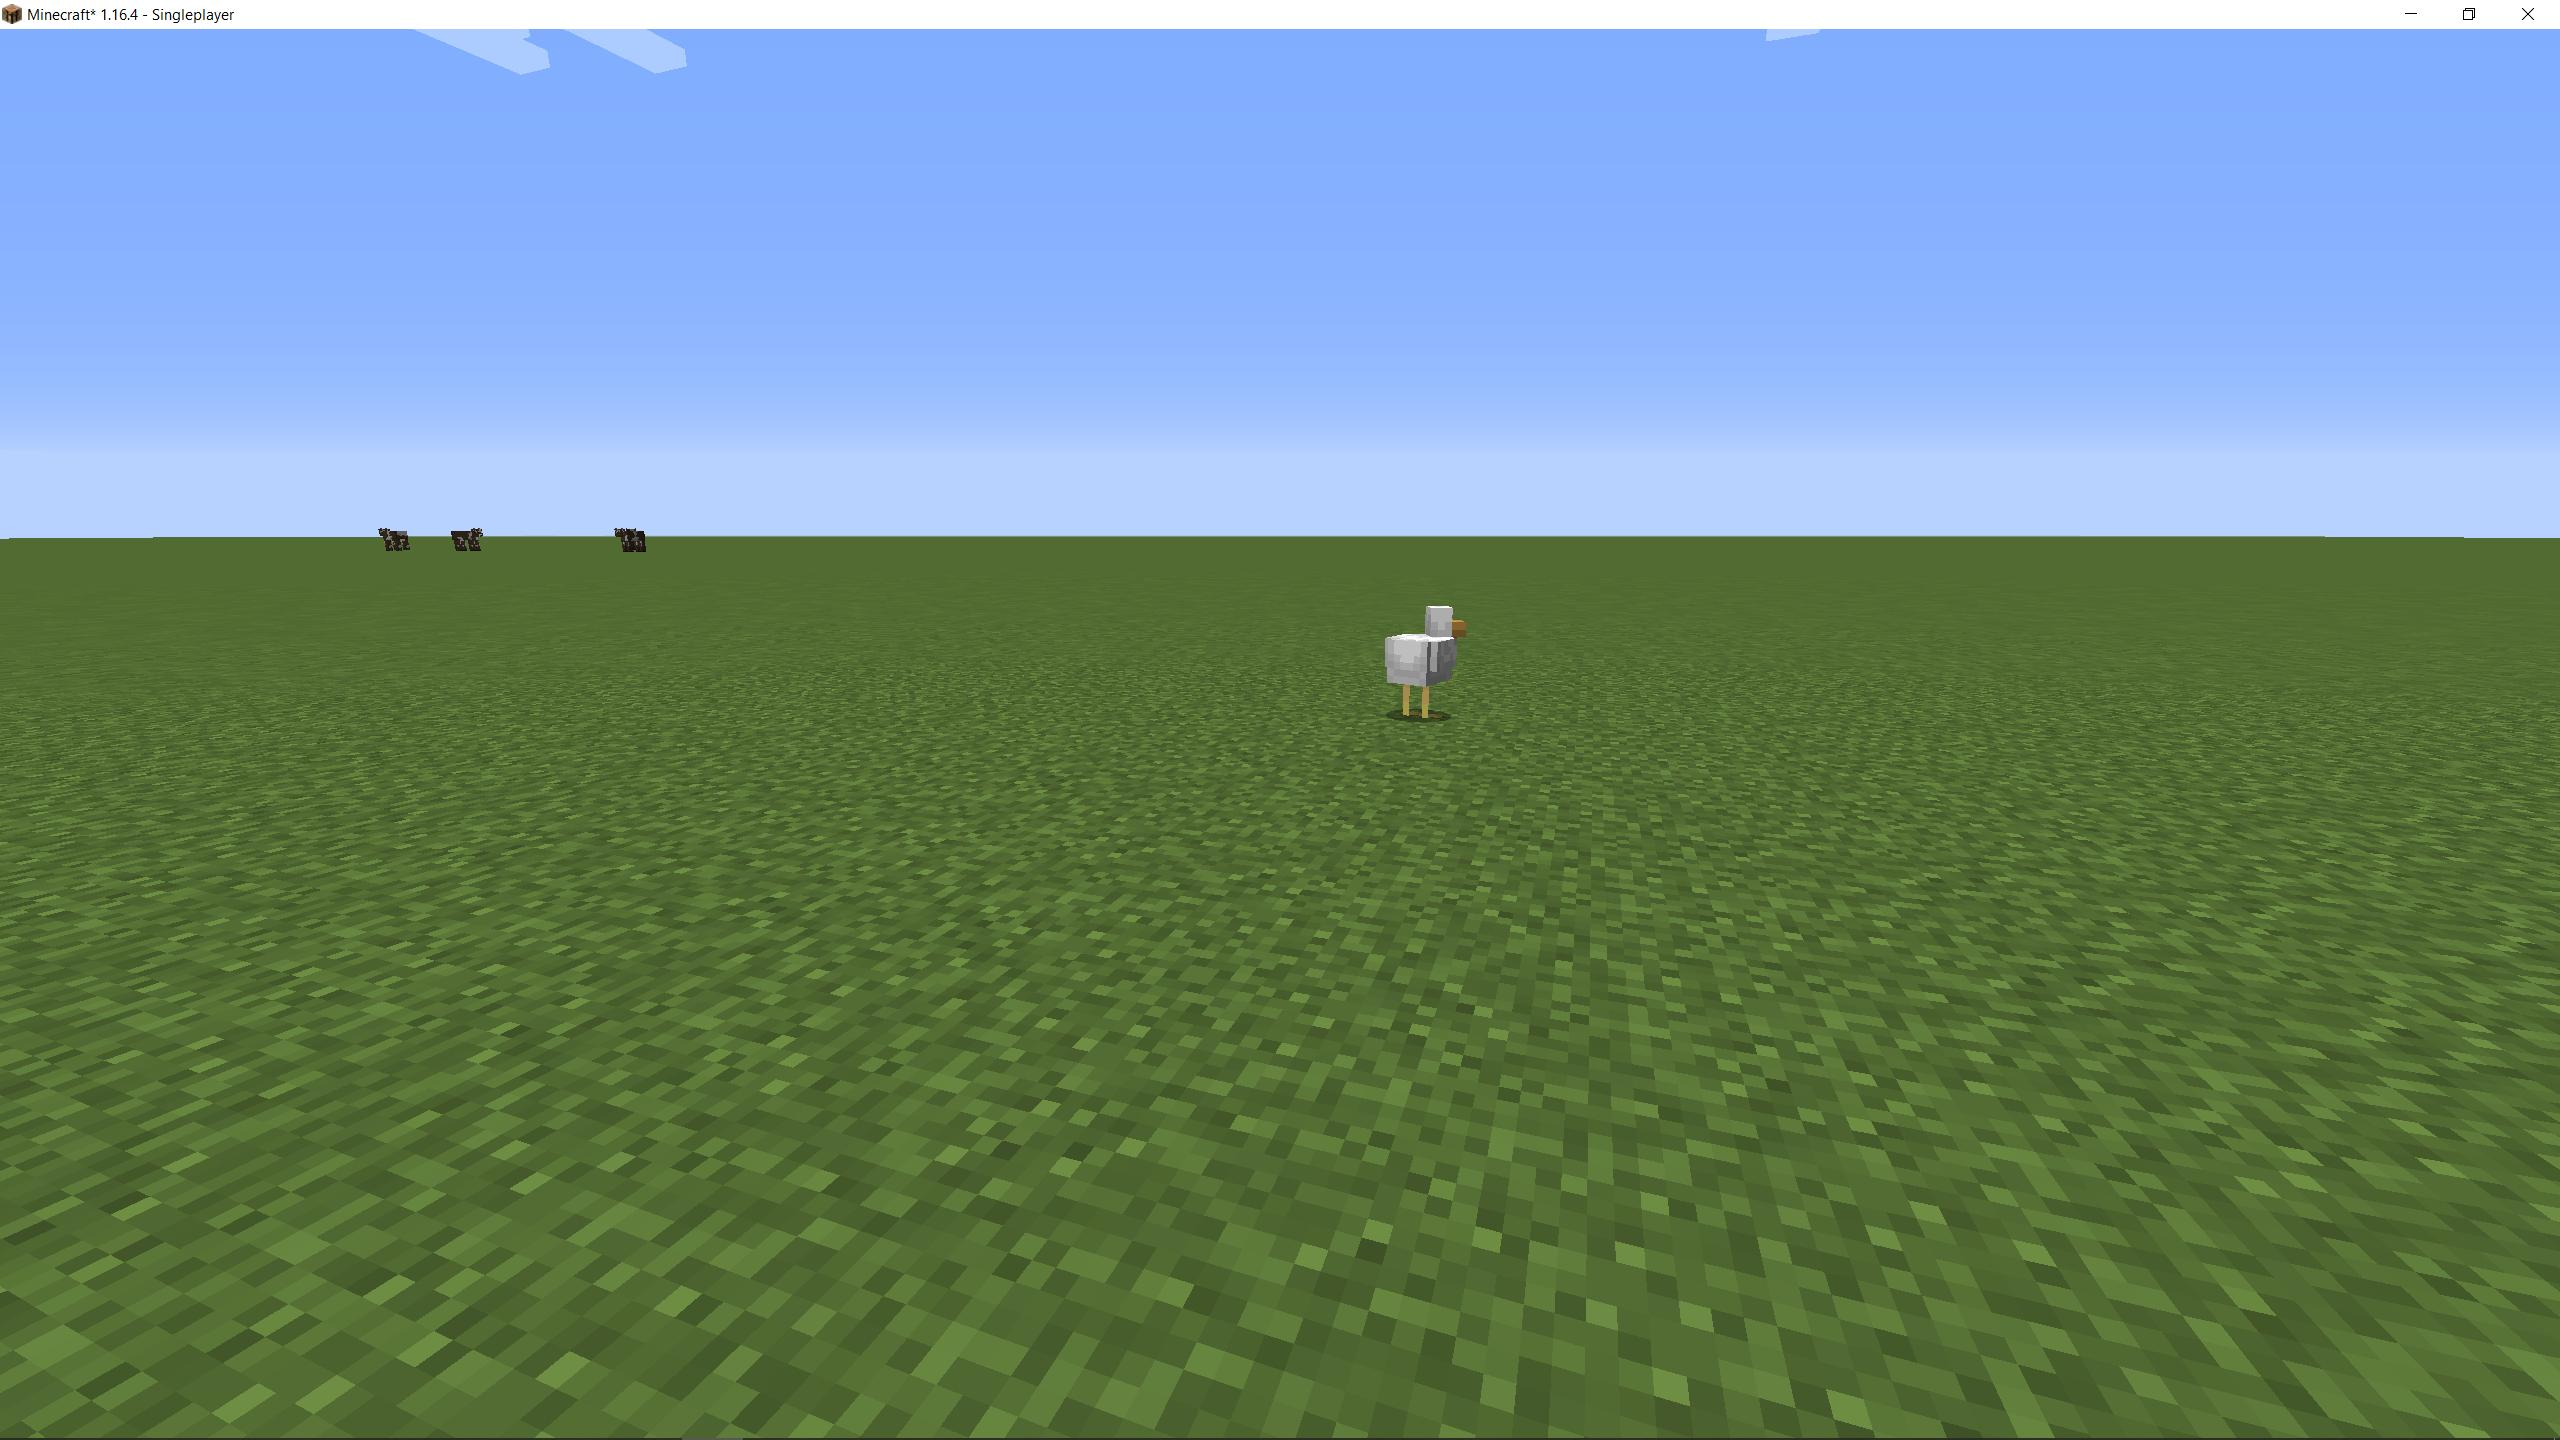chicken: (1380, 594, 1479, 730)
